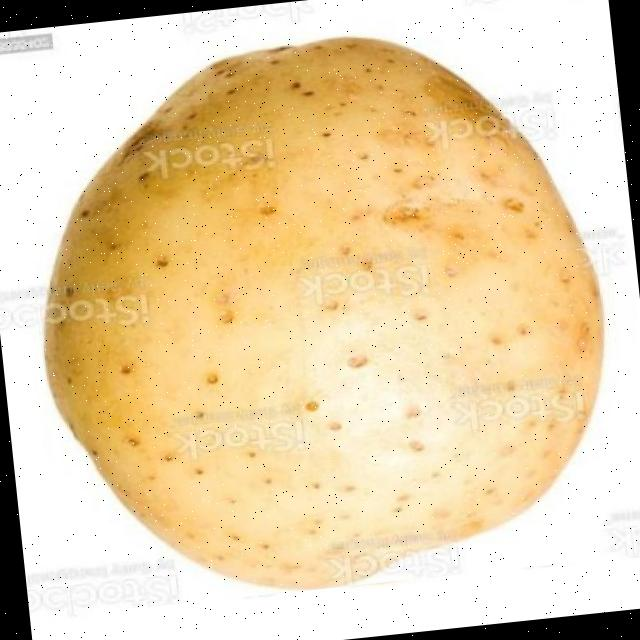Potato: (12, 8, 634, 614)
